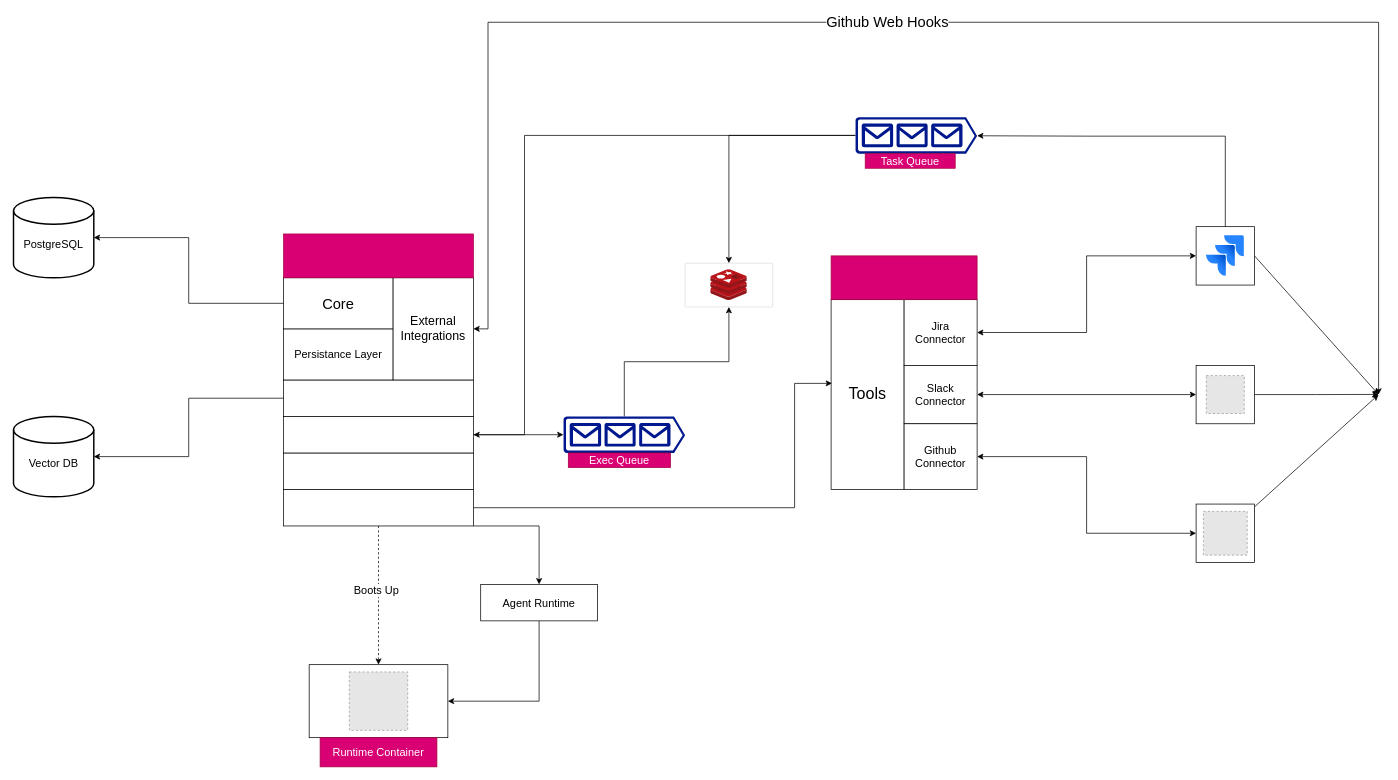
Some shapes in this 1398 by 780 pixel diagram are drawn without their labels. Grey dashed boxes stand in for pictures. Each missing label, with the box of its shape:
Agent Intelligence: (283, 452, 473, 489)
Agent Orchastration: (283, 489, 473, 526)
Maintainer and Retrival Indexing: (283, 379, 473, 416)
MCP: (830, 255, 977, 300)
Planning Gateway and Scheduler: (283, 416, 473, 453)
Server: (283, 233, 473, 278)
